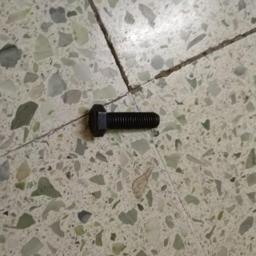screwtype2black: (88, 103, 163, 142)
